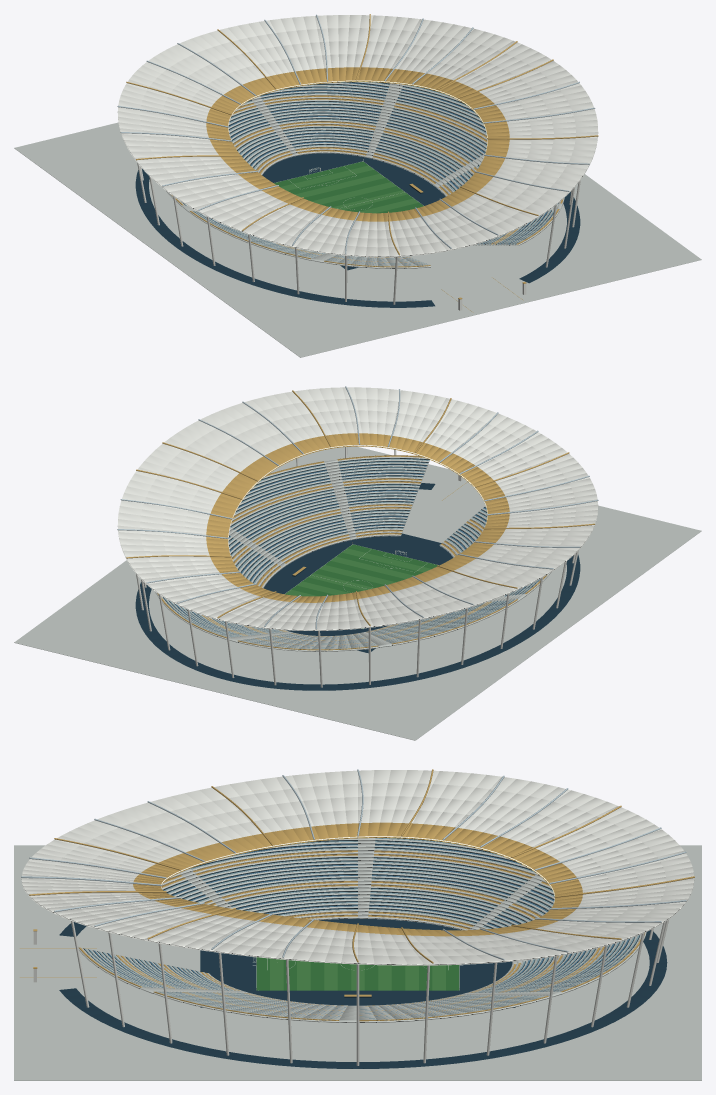
The model's file is stadium.glb.
3 renders of one model, top to bottom at view 1: azimuth 30°, elevation 25°; view 2: azimuth 150°, elevation 25°; view 3: azimuth 270°, elevation 25°, orthographic. The views are drawn at different scales.
Visible parts, largest first — view 1: GC-STADIUM-001-stone, GC-STADIUM-001-white, GC-STADIUM-001-gold, GC-STADIUM-001-dark, GC-STADIUM-001-seat, GC-STADIUM-001-silver, GC-STADIUM-001-grassB, GC-STADIUM-001-blue, GC-STADIUM-001-grassA; view 2: GC-STADIUM-001-stone, GC-STADIUM-001-white, GC-STADIUM-001-gold, GC-STADIUM-001-dark, GC-STADIUM-001-seat, GC-STADIUM-001-silver, GC-STADIUM-001-blue, GC-STADIUM-001-grassB, GC-STADIUM-001-grassA; view 3: GC-STADIUM-001-stone, GC-STADIUM-001-white, GC-STADIUM-001-gold, GC-STADIUM-001-dark, GC-STADIUM-001-seat, GC-STADIUM-001-blue, GC-STADIUM-001-silver, GC-STADIUM-001-grassB, GC-STADIUM-001-grassA, GC-STADIUM-001-light.
Boxes of the visible parts, x1=… form: GC-STADIUM-001-stone: x1=14, y1=82, x2=701, y2=357; GC-STADIUM-001-white: x1=117, y1=15, x2=598, y2=310; GC-STADIUM-001-gold: x1=126, y1=14, x2=598, y2=312; GC-STADIUM-001-dark: x1=135, y1=82, x2=580, y2=307; GC-STADIUM-001-seat: x1=185, y1=82, x2=557, y2=265; GC-STADIUM-001-silver: x1=117, y1=14, x2=595, y2=254; GC-STADIUM-001-grassB: x1=274, y1=161, x2=423, y2=213; GC-STADIUM-001-blue: x1=209, y1=82, x2=547, y2=264; GC-STADIUM-001-grassA: x1=280, y1=165, x2=418, y2=213; GC-STADIUM-001-stone: x1=14, y1=446, x2=701, y2=740; GC-STADIUM-001-white: x1=117, y1=387, x2=598, y2=687; GC-STADIUM-001-gold: x1=126, y1=390, x2=595, y2=650; GC-STADIUM-001-dark: x1=135, y1=458, x2=580, y2=690; GC-STADIUM-001-seat: x1=164, y1=458, x2=539, y2=648; GC-STADIUM-001-silver: x1=117, y1=386, x2=598, y2=629; GC-STADIUM-001-blue: x1=175, y1=464, x2=526, y2=647; GC-STADIUM-001-grassB: x1=285, y1=544, x2=438, y2=628; GC-STADIUM-001-grassA: x1=285, y1=548, x2=431, y2=596; GC-STADIUM-001-stone: x1=14, y1=838, x2=701, y2=1080; GC-STADIUM-001-white: x1=21, y1=770, x2=694, y2=1065; GC-STADIUM-001-gold: x1=20, y1=769, x2=694, y2=1021; GC-STADIUM-001-dark: x1=59, y1=838, x2=667, y2=1068; GC-STADIUM-001-seat: x1=84, y1=838, x2=639, y2=1019; GC-STADIUM-001-blue: x1=94, y1=844, x2=629, y2=1018; GC-STADIUM-001-silver: x1=21, y1=769, x2=686, y2=960; GC-STADIUM-001-grassB: x1=256, y1=957, x2=459, y2=990; GC-STADIUM-001-grassA: x1=270, y1=958, x2=445, y2=990; GC-STADIUM-001-light: x1=161, y1=836, x2=554, y2=903.
Size of the model in its own units: 288 by 67.62 by 356.
